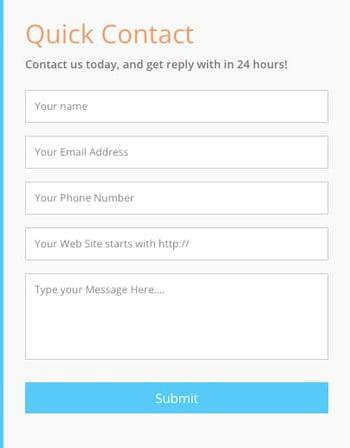button: (24, 382, 331, 414)
input: (25, 89, 330, 126), (27, 182, 330, 217), (26, 227, 329, 261), (26, 137, 330, 169)
label: (27, 22, 195, 49), (25, 59, 290, 72)
